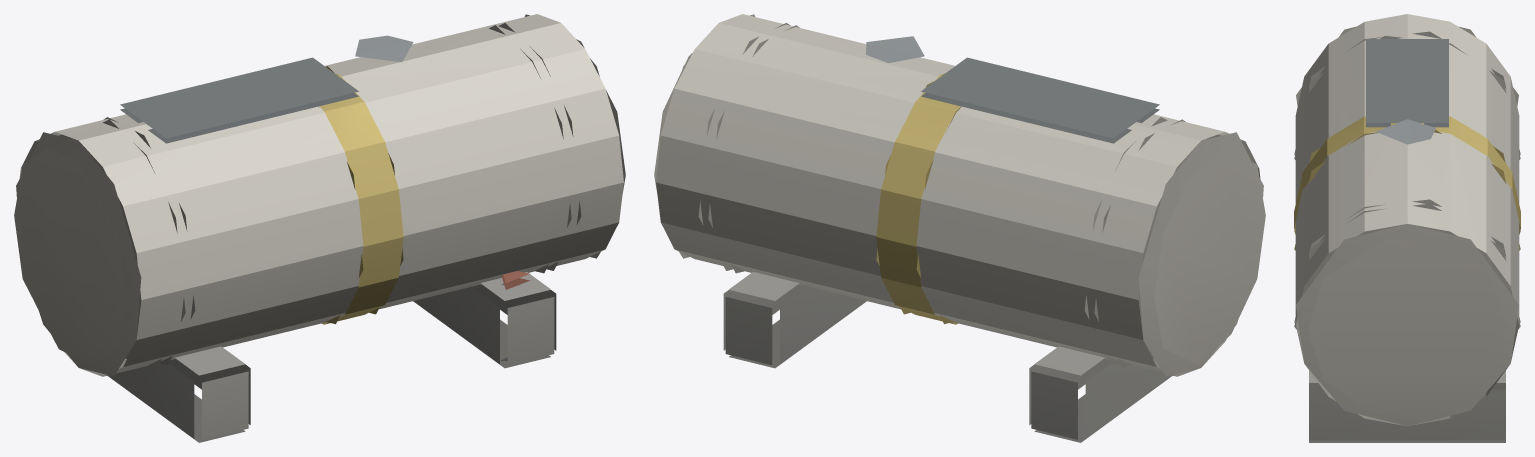
Rendered from mil_fueltank.lod.glb.
3 views of the same model, side by side, from view 1: azimuth 30°, elevation 25°; view 2: azimuth 150°, elevation 25°; view 3: azimuth 270°, elevation 25° (orthographic). The views are drawn at different scales.
Parts seen in each view (by area): view 1: mil_fueltank; view 2: mil_fueltank; view 3: mil_fueltank.
Boxes of the visible parts, x1,y1,x2,y2 form: mil_fueltank: (14,14,625,442); mil_fueltank: (654,14,1265,442); mil_fueltank: (1294,14,1520,442).
Size of the model in its own units: 6.22 by 3.5 by 2.74.
